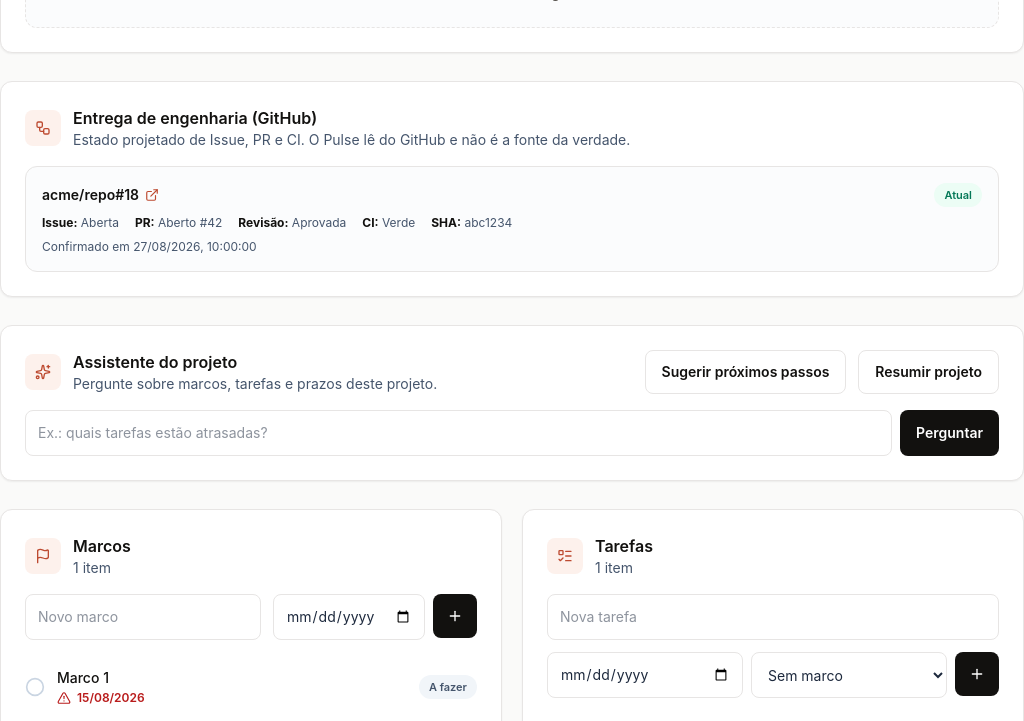
Test: resume o projeto com IA
(page scrolled)
Click the button "Resumir projeto". click: (929,372)
box: [858,350,999,394]
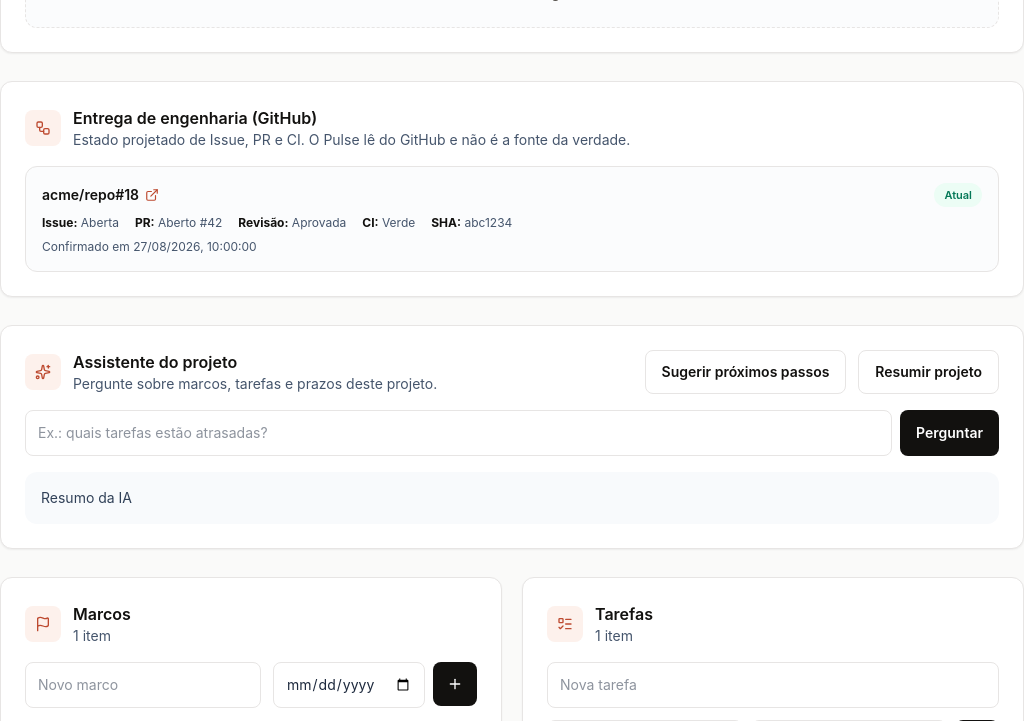
Now the text "Resumo da IA" is shown, box [25,472,999,524]
